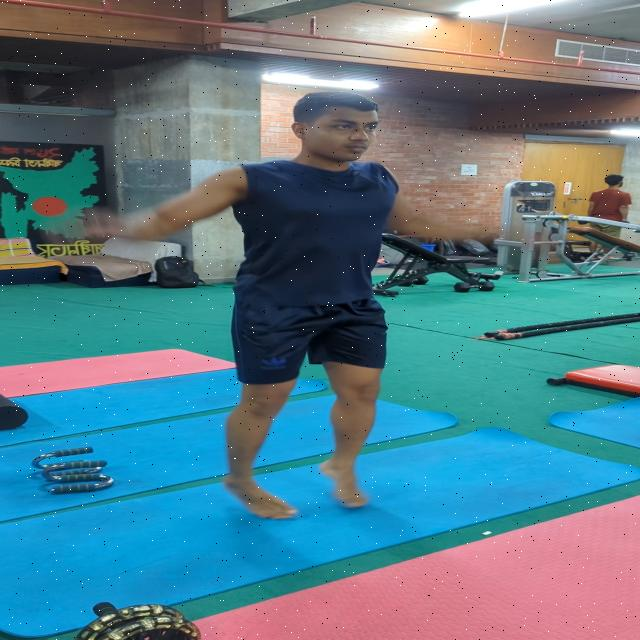Normal_JumpingJacks: (128, 85, 532, 558)
